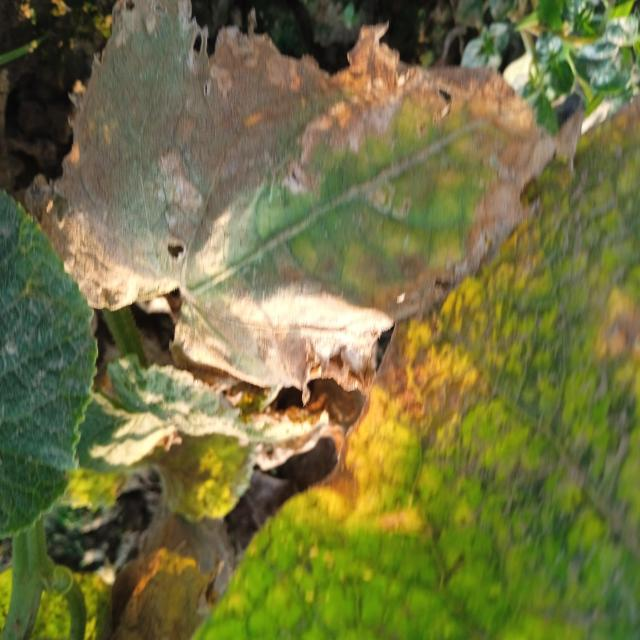cucumber_gummy: (22, 0, 566, 409), (69, 355, 343, 509)
